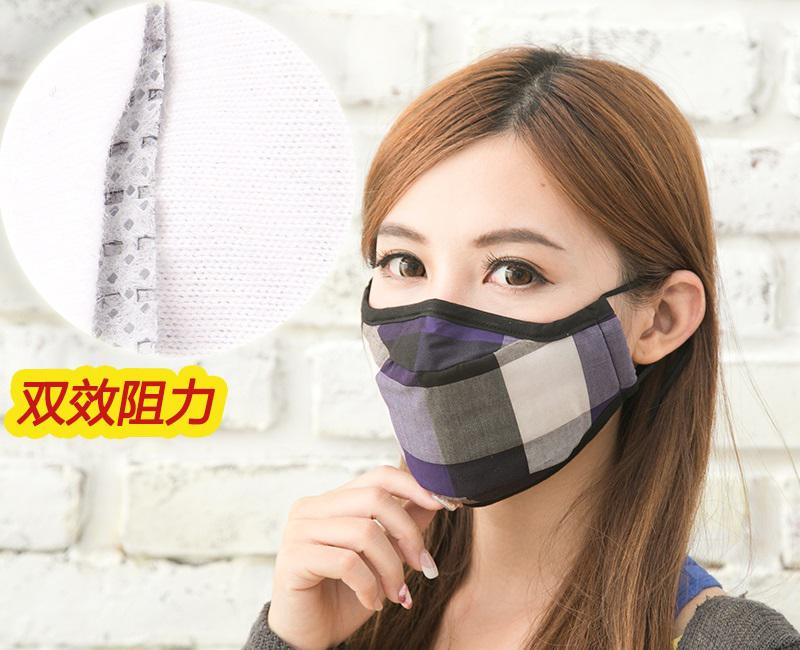OK: (361, 215, 633, 493)
